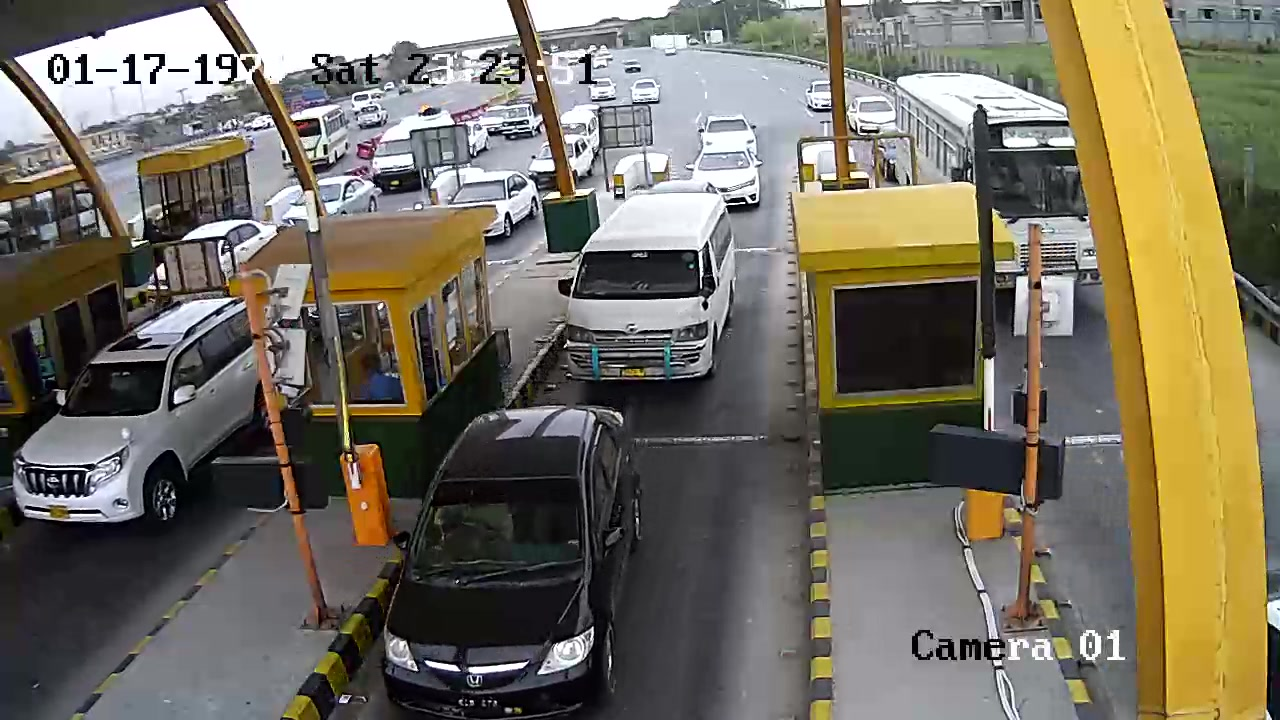F3: (563, 196, 747, 390)
